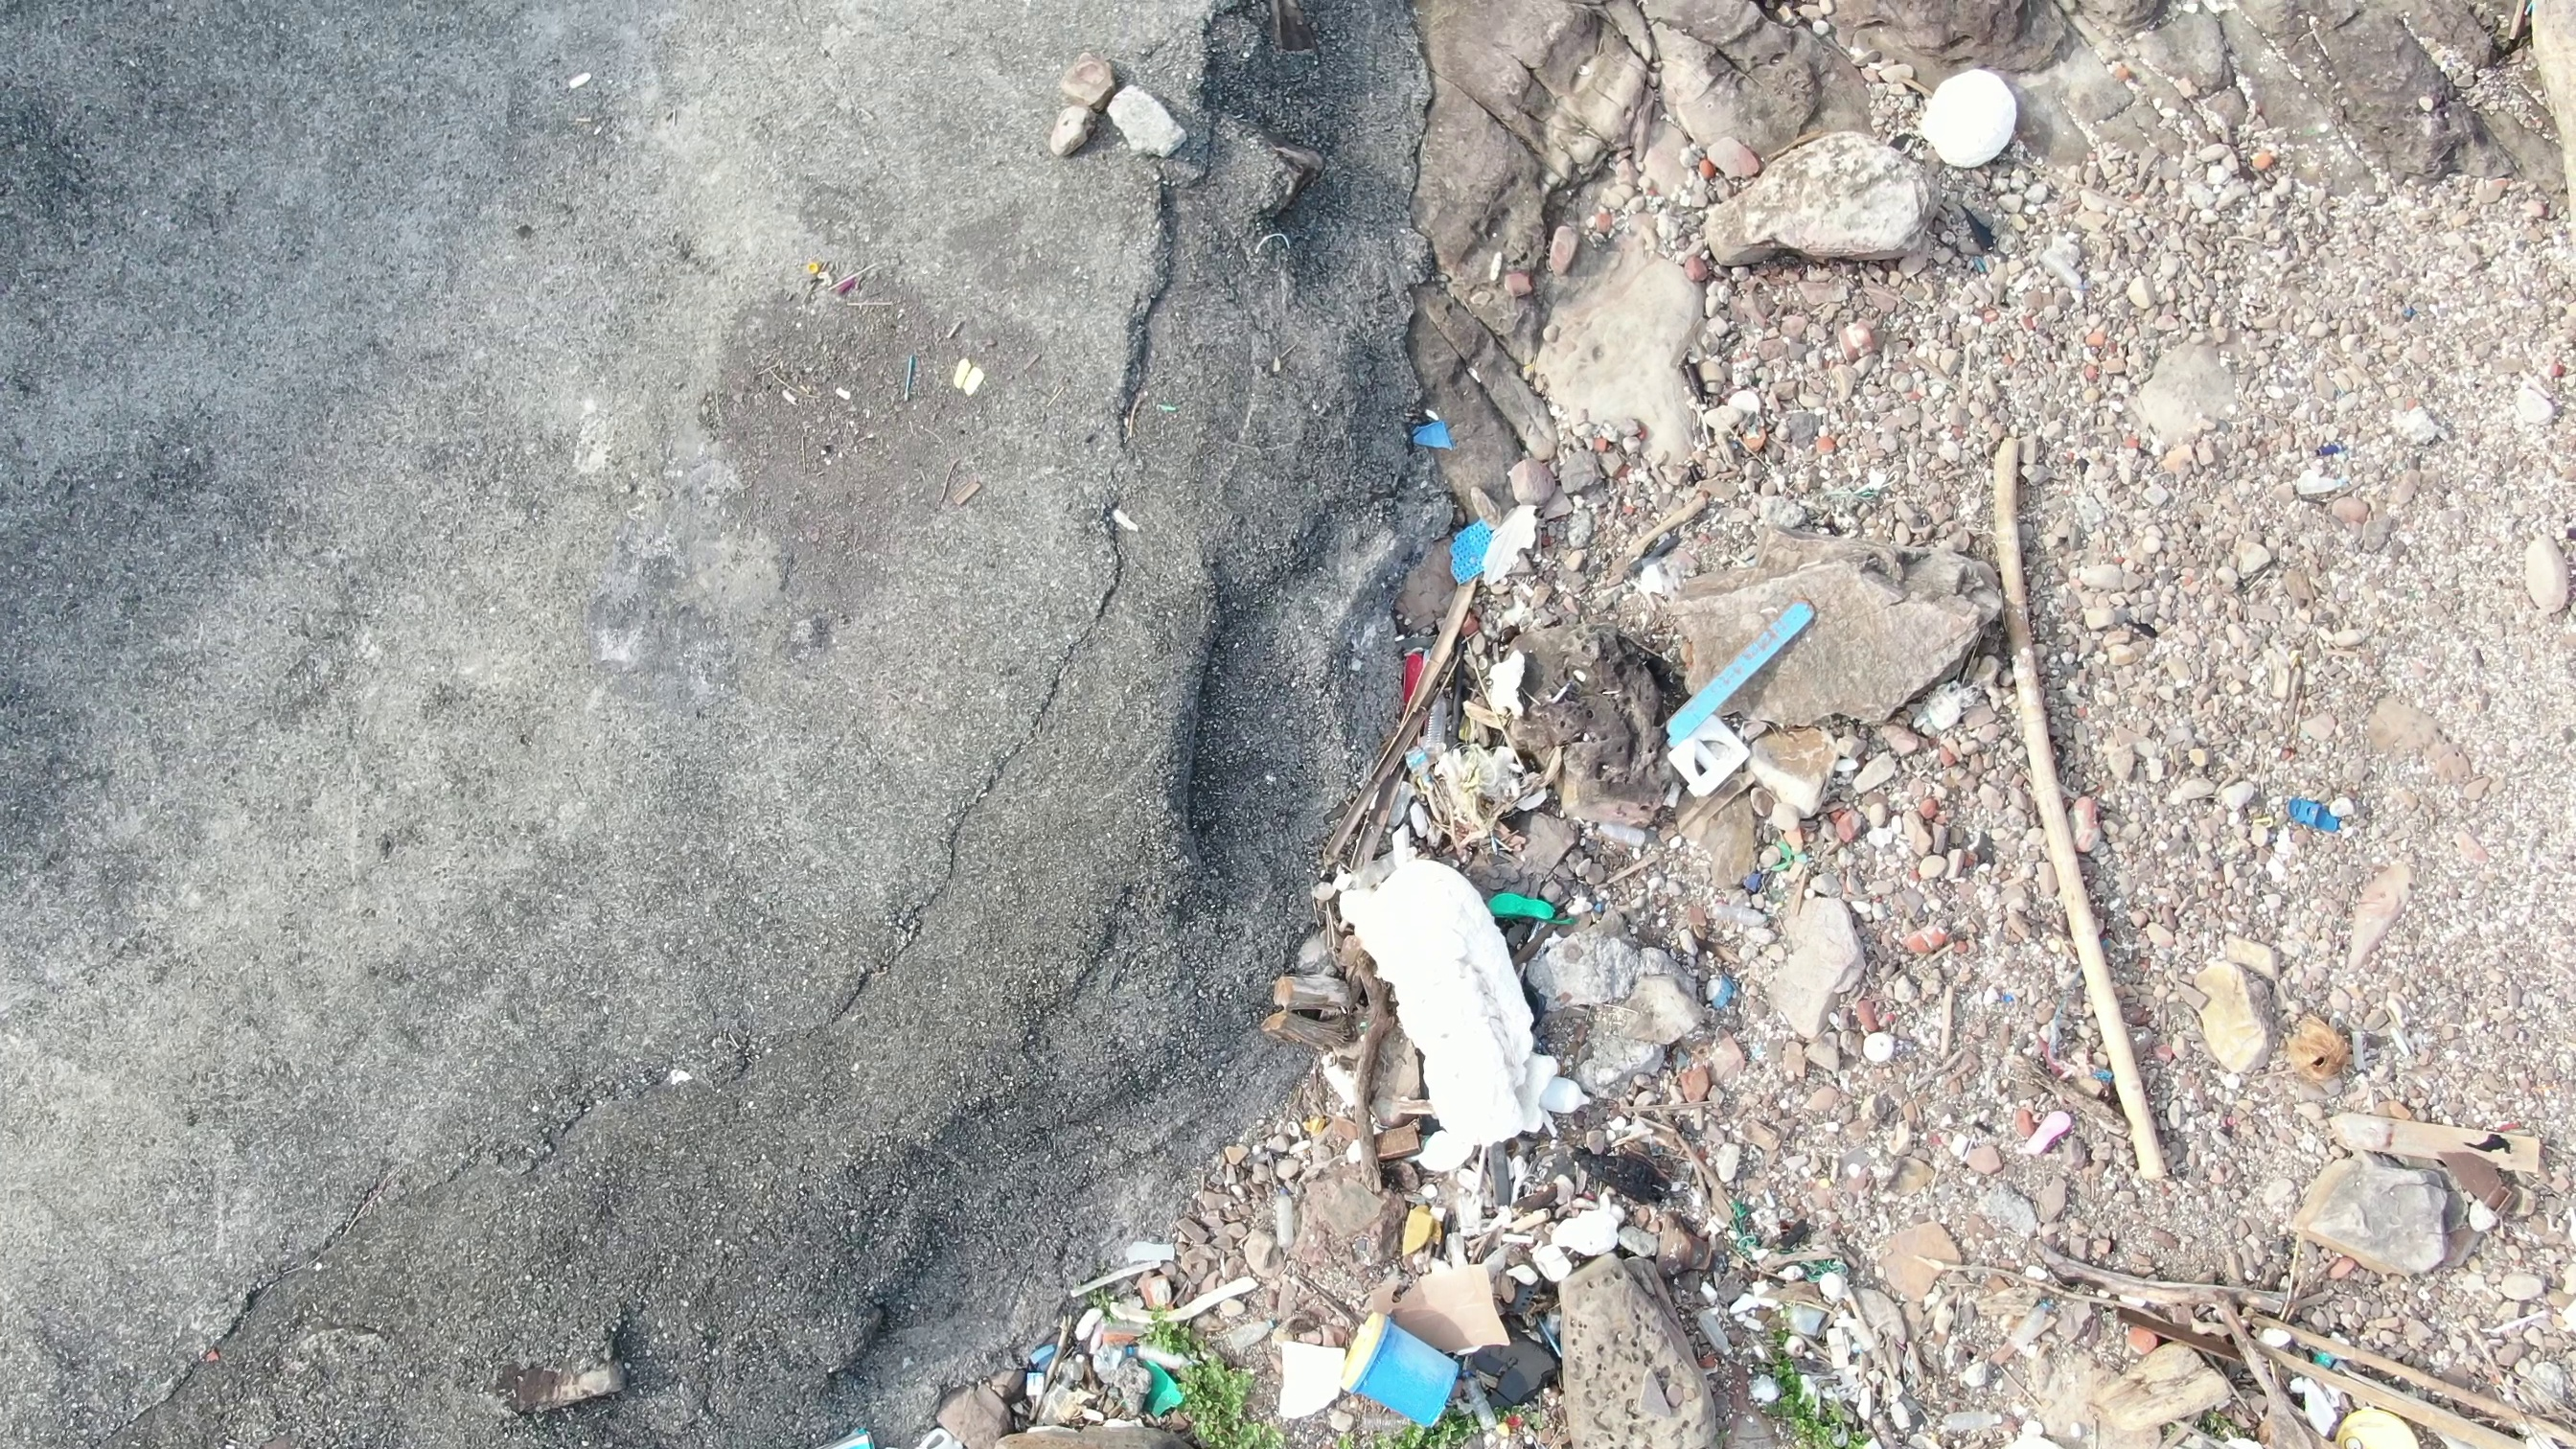garbage: (964, 1187, 1934, 1449), (1338, 377, 1608, 1157), (1663, 591, 1822, 793), (2282, 796, 2341, 840)
